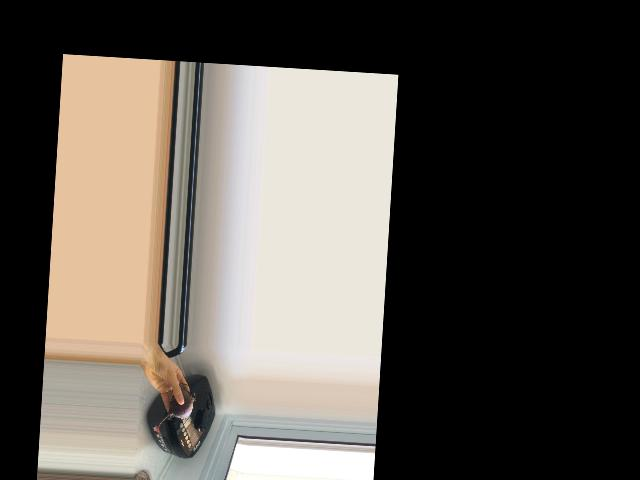beet: (157, 382, 196, 429)
